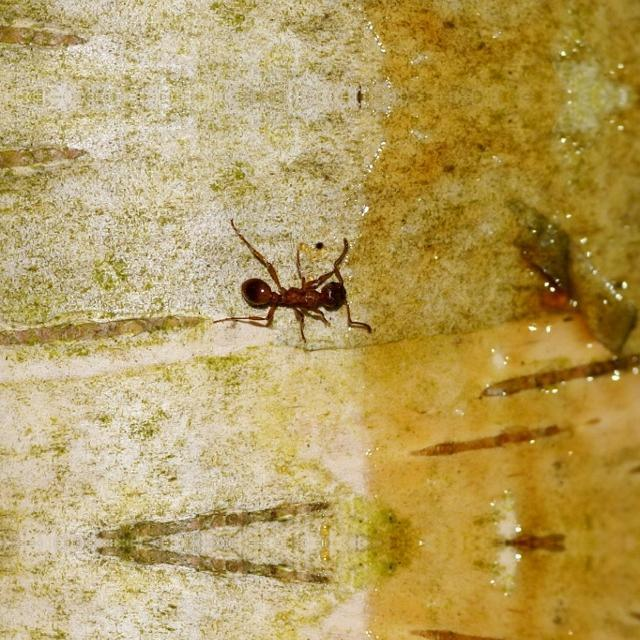Lasius: (209, 237, 373, 326)
